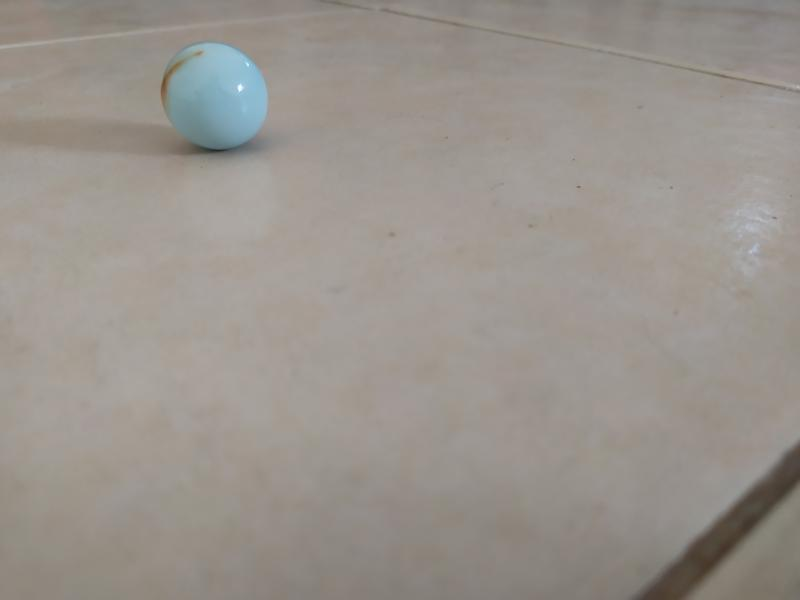Warning: (158, 39, 270, 154)
